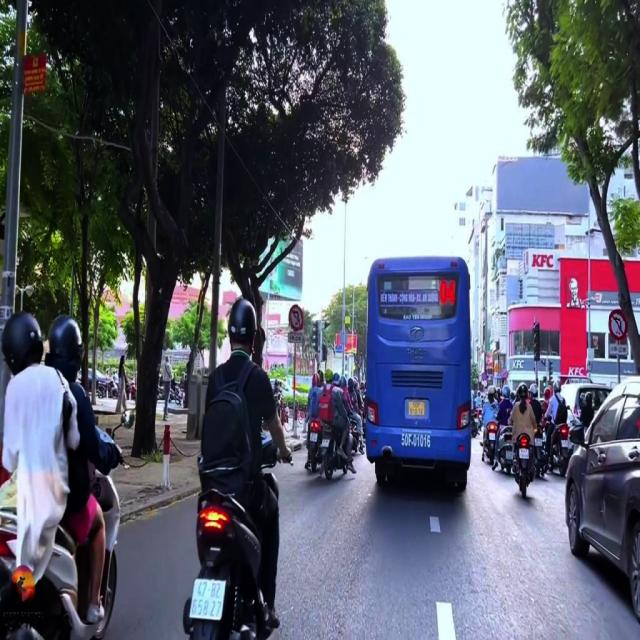cam_o_to_re_trai: (610, 310, 630, 340), (289, 304, 303, 330)
khac: (609, 342, 628, 355), (289, 333, 302, 343)
